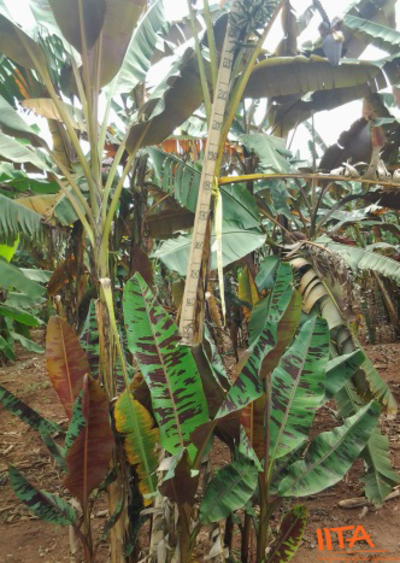bananaHand: (224, 1, 279, 57)
